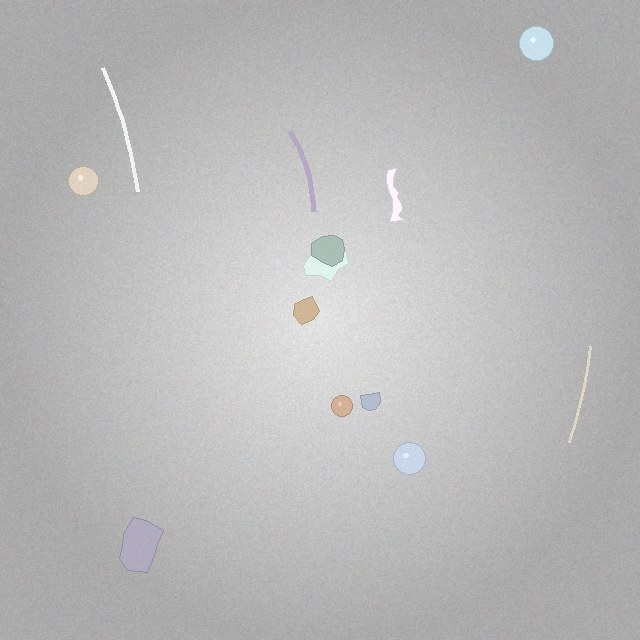fiber: (99, 63, 141, 196), (285, 126, 320, 217), (566, 343, 594, 446)
film: (386, 169, 404, 222)
fragment: (119, 517, 163, 573), (304, 241, 348, 281), (311, 235, 345, 267), (293, 297, 319, 324), (360, 393, 380, 411)
pellet: (520, 27, 554, 61), (393, 443, 425, 475), (69, 166, 98, 196), (332, 396, 353, 417)
